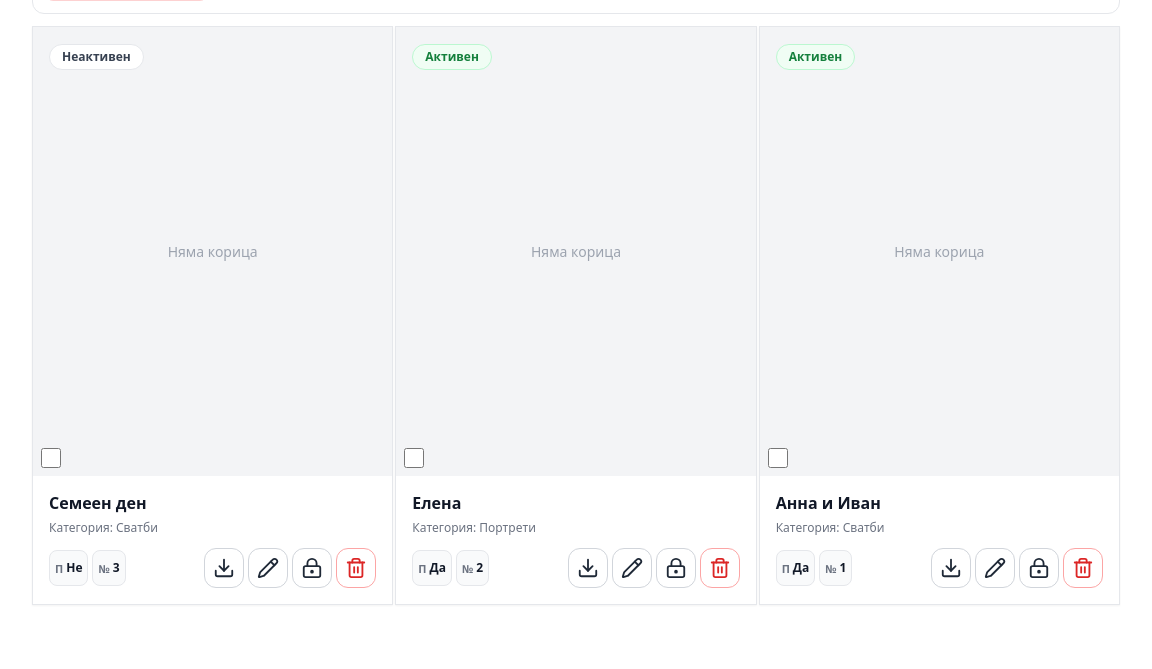
album management › loads every server page and keeps marked albums when filtering
The width and height of the screenshot is (1152, 669).
(page scrolled)
Expected: the checkbox named "Маркирай албум „Семеен ден“" is shown, top-left (41, 448), bottom-right (61, 468)
Step 1. Click the checkbox named "Маркирай албум „Елена“" → coordinates (414, 458), box top-left (404, 448), bottom-right (424, 468)
(page scrolled)
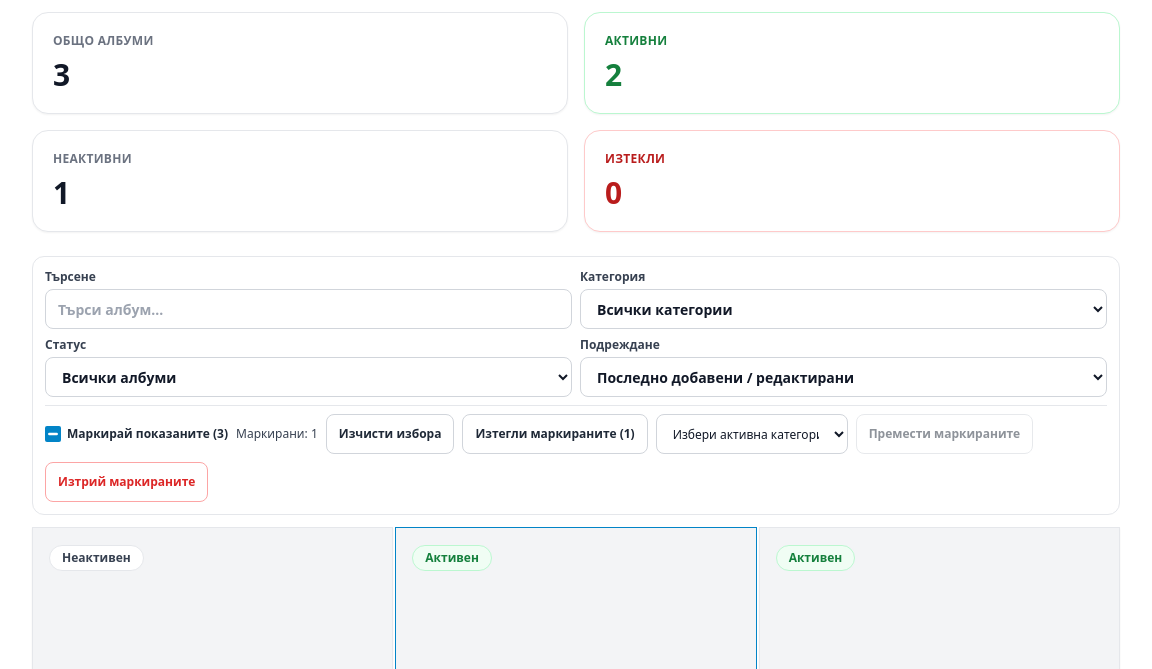
Step 2. Select "Сватби" in the dropdown labelled "Категория" → coordinates (844, 309), box top-left (580, 289), bottom-right (1107, 329)
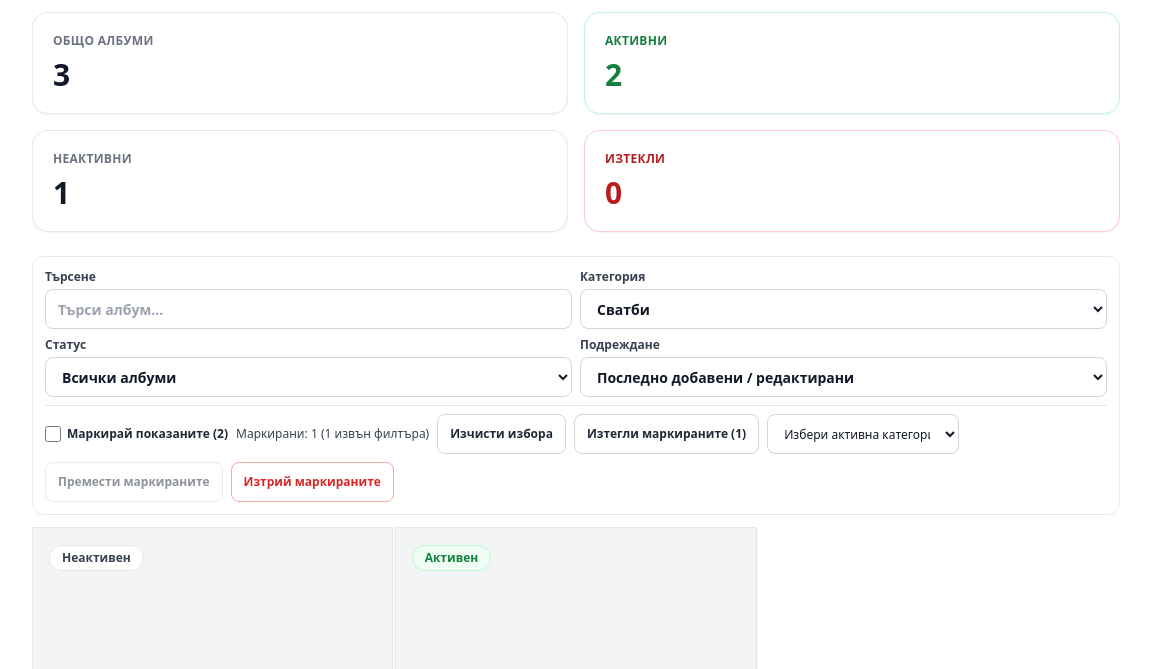
Expected: the text "Маркирани: 1 (1 извън филтъра)" is shown, top-left (236, 426), bottom-right (429, 442)
Step 3. Click the checkbox labelled "Маркирай показаните (2)" → coordinates (53, 434), box top-left (45, 426), bottom-right (61, 442)
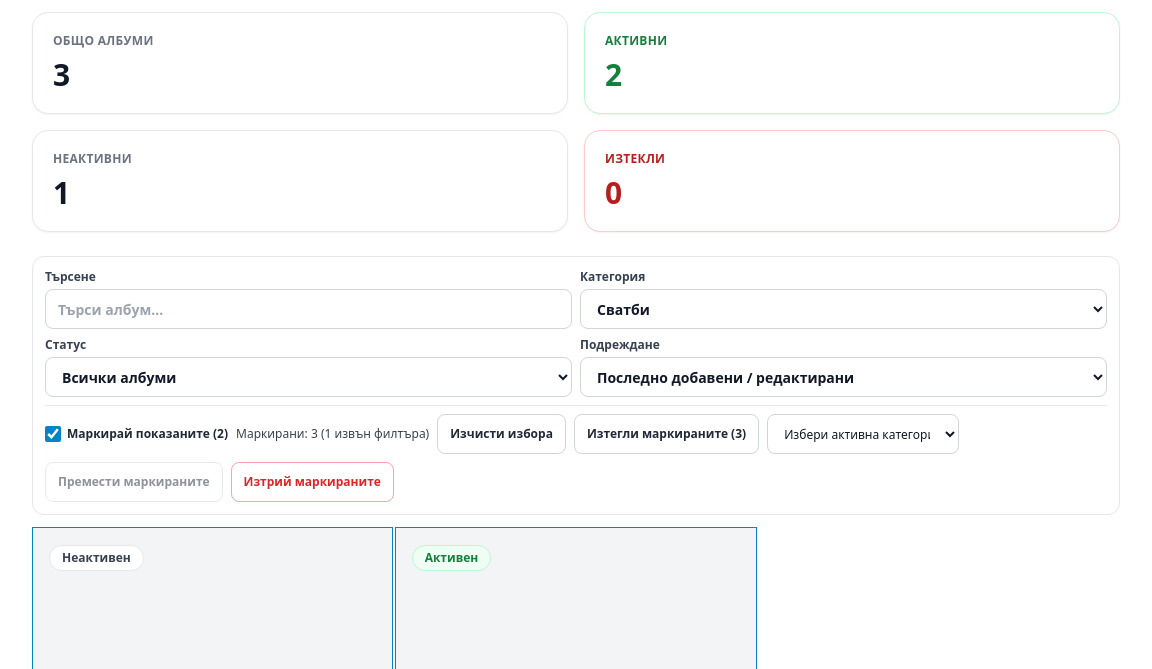
Expected: the text "Маркирани: 3 (1 извън филтъра)" is shown, top-left (236, 426), bottom-right (429, 442)
Step 4. Click the checkbox labelled "Маркирай показаните (2)" → coordinates (53, 434), box top-left (45, 426), bottom-right (61, 442)
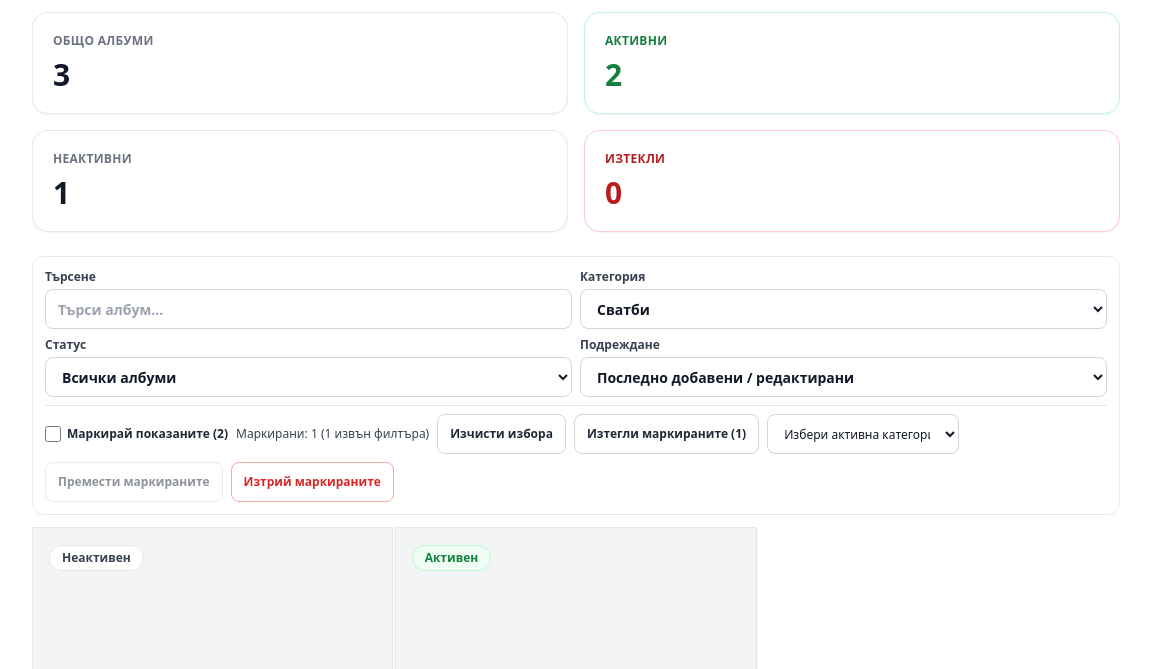
Expected: the text "Маркирани: 1 (1 извън филтъра)" is shown, top-left (236, 426), bottom-right (429, 442)
